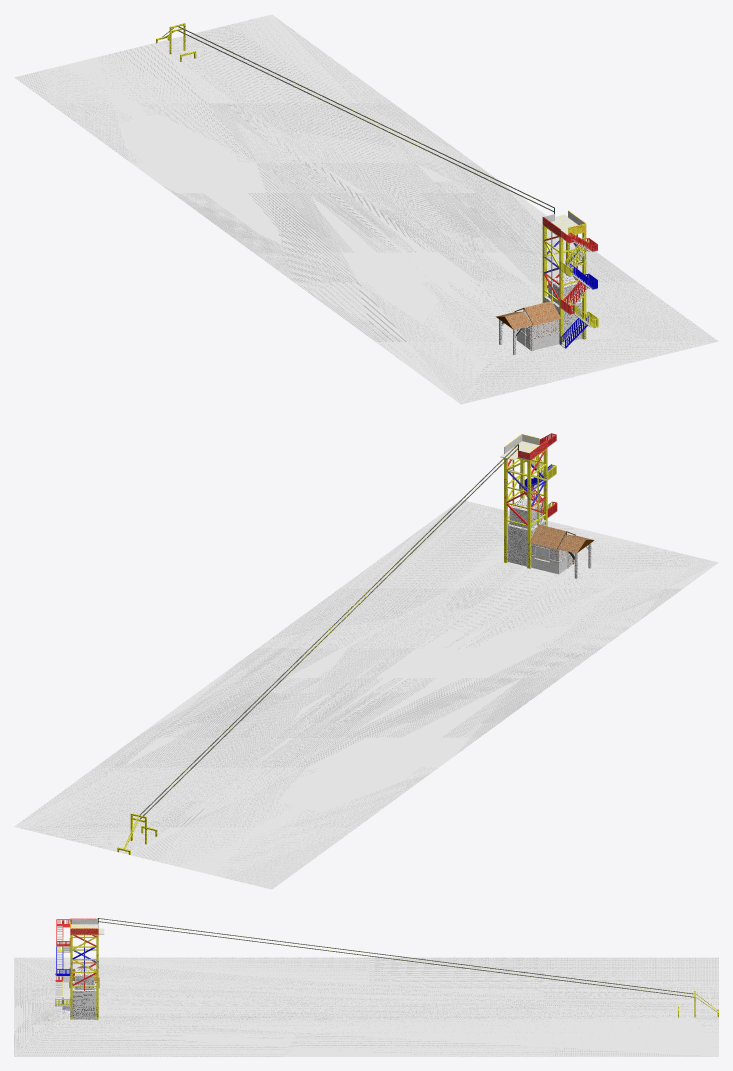
File: Flying Fox jadi.dae
The picture shows the model from 3 angles, top to bottom: view 1: azimuth 30°, elevation 25°; view 2: azimuth 150°, elevation 25°; view 3: azimuth 270°, elevation 25°; orthographic projection. The views are drawn at different scales.
Visible parts, largest first — view 1: SketchUp, group_2 (×2); view 2: SketchUp, group_2 (×2), group_0; view 3: SketchUp, group_2 (×2), group_0 (×2).
Boxes of the visible parts, bbox=[...] form: SketchUp: bbox=[14, 14, 718, 404]; group_2 (×2): bbox=[178, 26, 554, 211]; SketchUp: bbox=[14, 500, 718, 889]; group_2 (×2): bbox=[140, 444, 518, 819]; group_0: bbox=[508, 519, 546, 566]; SketchUp: bbox=[14, 957, 718, 1056]; group_2 (×2): bbox=[98, 918, 693, 997]; group_0 (×2): bbox=[72, 968, 96, 1019].
Bounding box in the file's own units: 787 × 2362 × 355.
